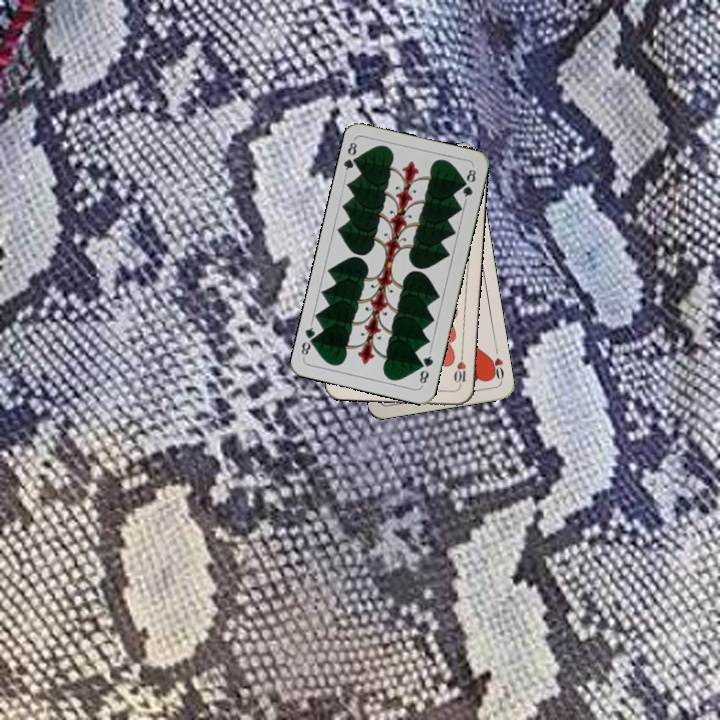G8: (340, 136, 363, 176), (415, 348, 436, 388)
H10: (450, 350, 469, 391)
HO: (486, 343, 506, 383)
